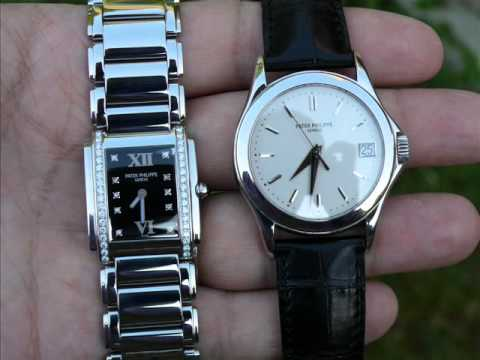clock: (249, 83, 384, 222)
